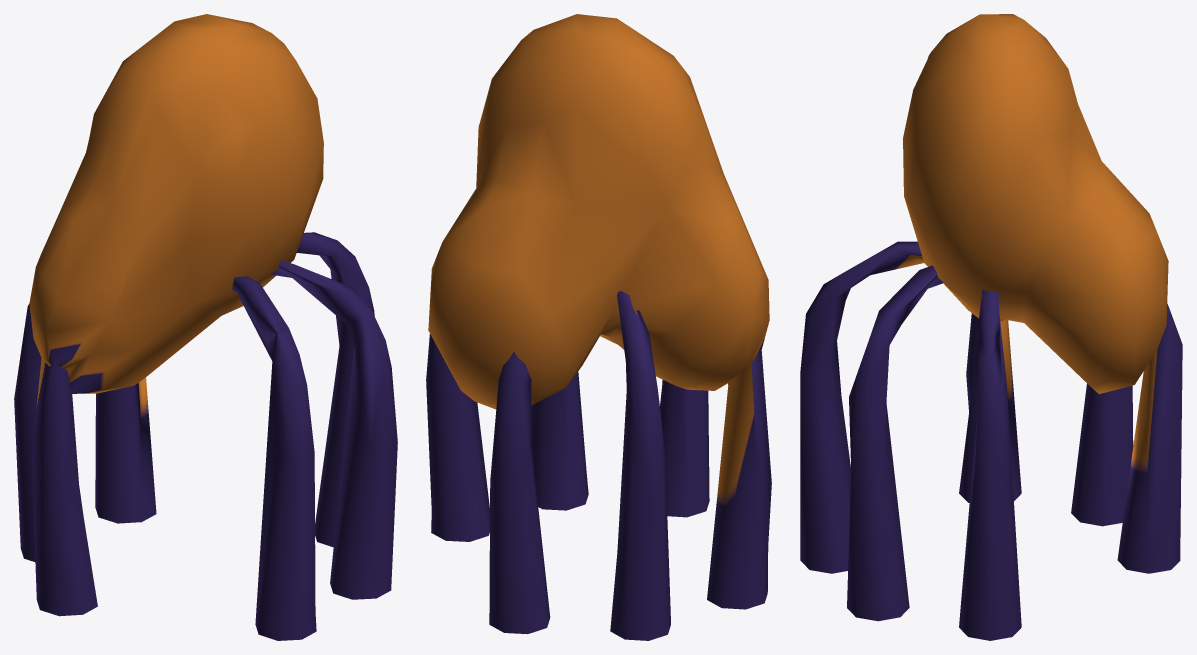
File: usk_Tree_Blob-QHYRrAnKzW_lod.glb
The picture shows the model from 3 angles, left to right: view 1: azimuth 30°, elevation 25°; view 2: azimuth 150°, elevation 25°; view 3: azimuth 270°, elevation 25°; orthographic projection.
Parts seen in each view (by area): view 1: Tree_Blob_1; view 2: Tree_Blob_1; view 3: Tree_Blob_1.
Part boxes in pixels (x1,y1,x2,y2): Tree_Blob_1: (14,14,397,640); Tree_Blob_1: (426,14,771,640); Tree_Blob_1: (800,14,1182,640).
Size of the model in its own units: 3.76 by 5.84 by 3.75.
Materials: 1 (1 with a texture image).
